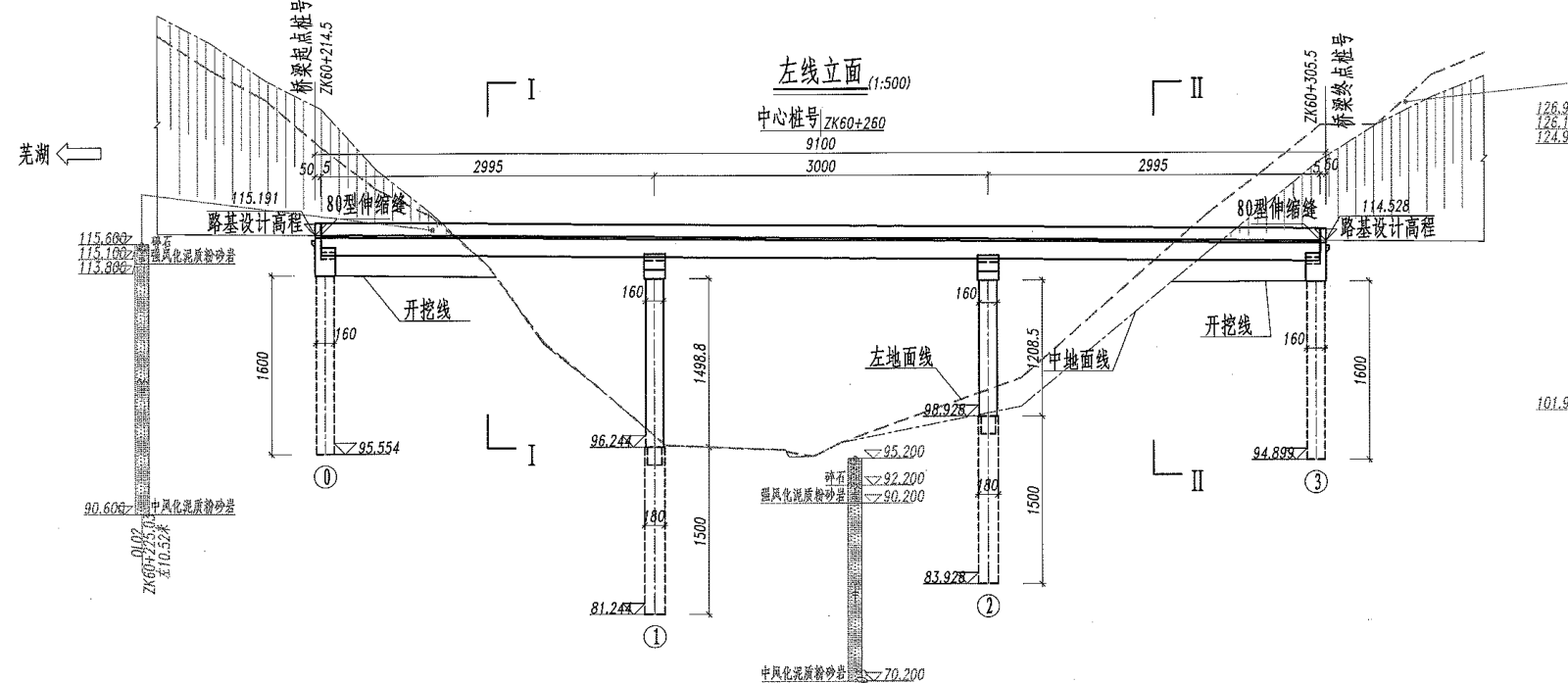A: (311, 131, 1335, 159)
C: (574, 251, 690, 658), (908, 250, 1021, 629), (1241, 240, 1340, 499)
